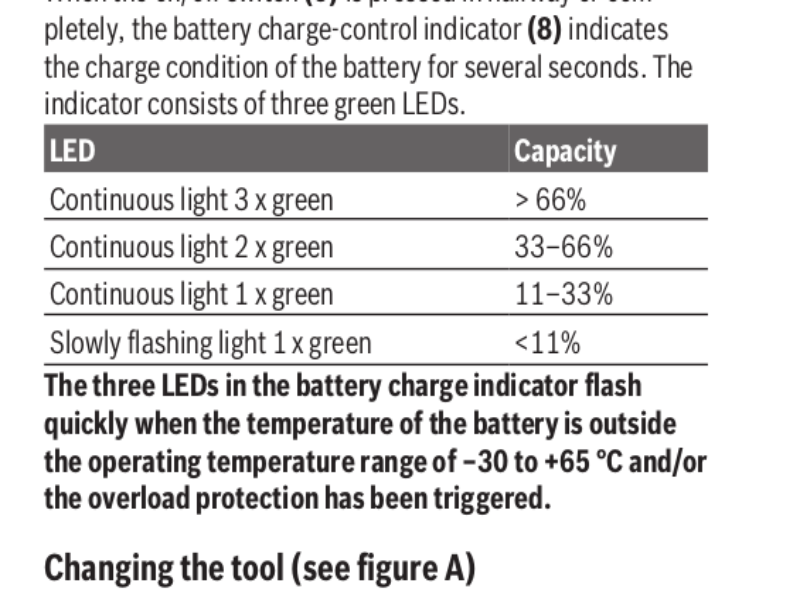cell: (40, 118, 715, 371), (44, 324, 377, 359), (46, 229, 342, 264), (45, 275, 341, 310), (48, 183, 338, 215), (507, 225, 618, 260), (508, 273, 619, 308), (511, 135, 621, 169), (507, 321, 587, 360), (509, 179, 592, 212), (47, 135, 103, 166)
